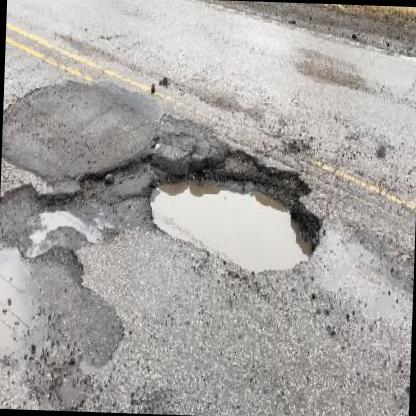pothole: (142, 139, 326, 276), (0, 176, 82, 263)
